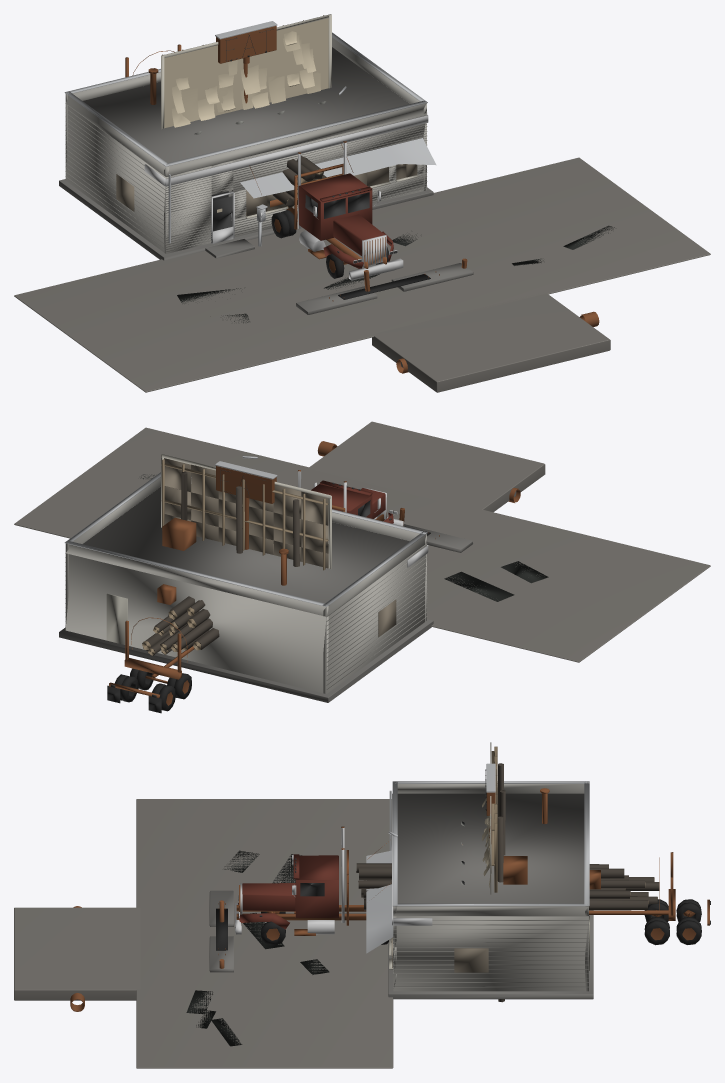
File: props_road.glb
3 renders of one model, top to bottom at view 1: azimuth 30°, elevation 25°; view 2: azimuth 150°, elevation 25°; view 3: azimuth 270°, elevation 25°, orthographic. The views are drawn at different scales.
Parts seen in each view (by area): view 1: P_RC9_DINER-diner, P_RC9_TRUCK-logging_truck, P_RC9_BILLBOARD-billboard-face, P_RC9_BILLBOARD-billboard-peel, P_RC9_EAT-eat_sign, P_RC9_BILLBOARD-billboard, P_RC9_TRUCK-logging_truck-logs; view 2: P_RC9_DINER-diner, P_RC9_BILLBOARD-billboard, P_RC9_TRUCK-logging_truck, P_RC9_TRUCK-logging_truck-logs, P_RC9_EAT-eat_sign, P_RC9_TRUCK-logging_truck-axle_5, P_RC9_TRUCK-logging_truck-axle_4; view 3: P_RC9_DINER-diner, P_RC9_TRUCK-logging_truck, P_RC9_TRUCK-logging_truck-logs, P_RC9_BILLBOARD-billboard, P_RC9_TRUCK-logging_truck-axle_5, P_RC9_TRUCK-logging_truck-axle_4, P_RC9_TRUCK-logging_truck-axle_1, P_RC9_EAT-eat_sign.
Boxes of the visible parts, x1,y1,x2,y2 form: P_RC9_DINER-diner: (14, 32, 710, 392); P_RC9_TRUCK-logging_truck: (125, 44, 403, 280); P_RC9_BILLBOARD-billboard-face: (164, 18, 328, 128); P_RC9_BILLBOARD-billboard-peel: (172, 31, 320, 127); P_RC9_EAT-eat_sign: (215, 21, 277, 103); P_RC9_BILLBOARD-billboard: (161, 14, 331, 134); P_RC9_TRUCK-logging_truck-logs: (272, 156, 326, 208); P_RC9_DINER-diner: (14, 421, 710, 702); P_RC9_BILLBOARD-billboard: (161, 454, 331, 570); P_RC9_TRUCK-logging_truck: (107, 470, 403, 713); P_RC9_TRUCK-logging_truck-logs: (142, 596, 219, 655); P_RC9_EAT-eat_sign: (215, 461, 277, 549); P_RC9_TRUCK-logging_truck-axle_5: (114, 674, 175, 711); P_RC9_TRUCK-logging_truck-axle_4: (130, 668, 191, 699); P_RC9_DINER-diner: (14, 781, 600, 1068); P_RC9_TRUCK-logging_truck: (235, 826, 709, 935); P_RC9_TRUCK-logging_truck-logs: (356, 863, 659, 910); P_RC9_BILLBOARD-billboard: (461, 742, 505, 1002); P_RC9_TRUCK-logging_truck-axle_5: (676, 899, 701, 944); P_RC9_TRUCK-logging_truck-axle_4: (644, 899, 669, 945); P_RC9_TRUCK-logging_truck-axle_1: (261, 911, 285, 945); P_RC9_EAT-eat_sign: (486, 763, 495, 843).
Bounding box in the file's own units: 26 × 8.85 × 28.49.
